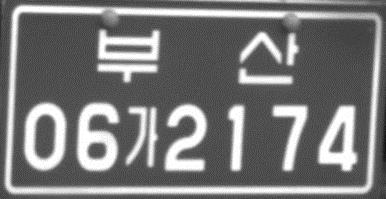0: (21, 101, 69, 170)
1: (223, 102, 250, 175)
2: (162, 101, 208, 177)
4: (313, 102, 361, 177)
6: (73, 99, 119, 174)
7: (267, 99, 312, 175)
가: (123, 102, 161, 170)
부산_D: (94, 23, 302, 88)
